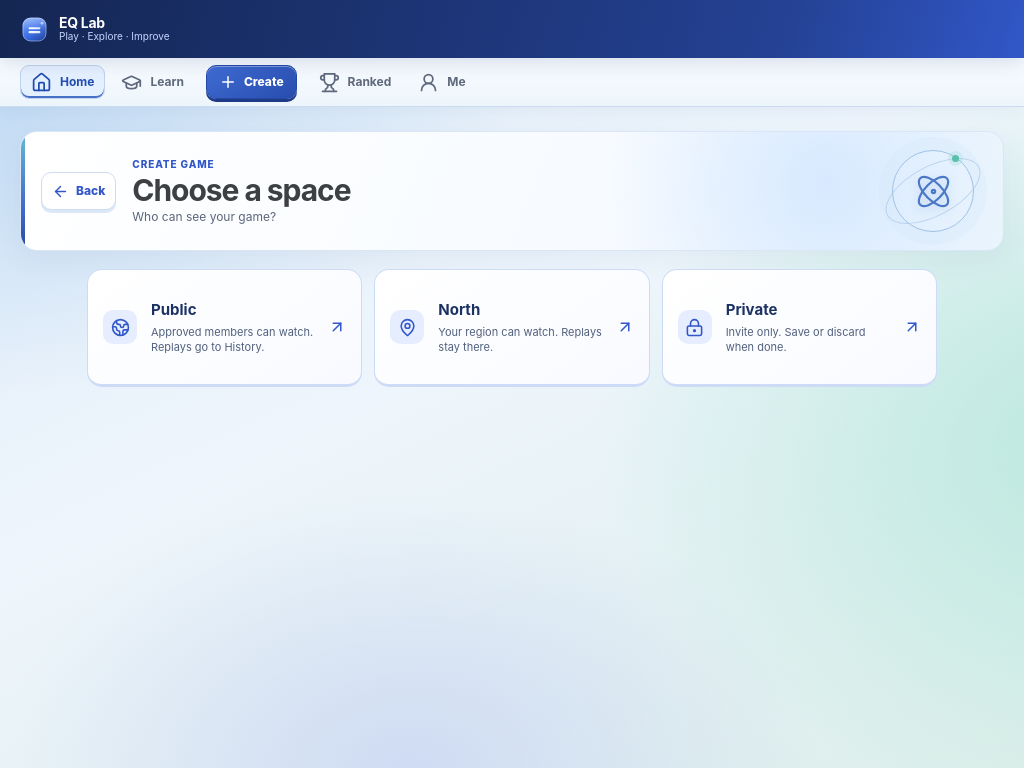
Test: choosing ArchBot › says so in a browser that cannot run it
Click the button "Public Approved members can watch. Replays go to History.": point(225, 328) [87, 269, 362, 387]
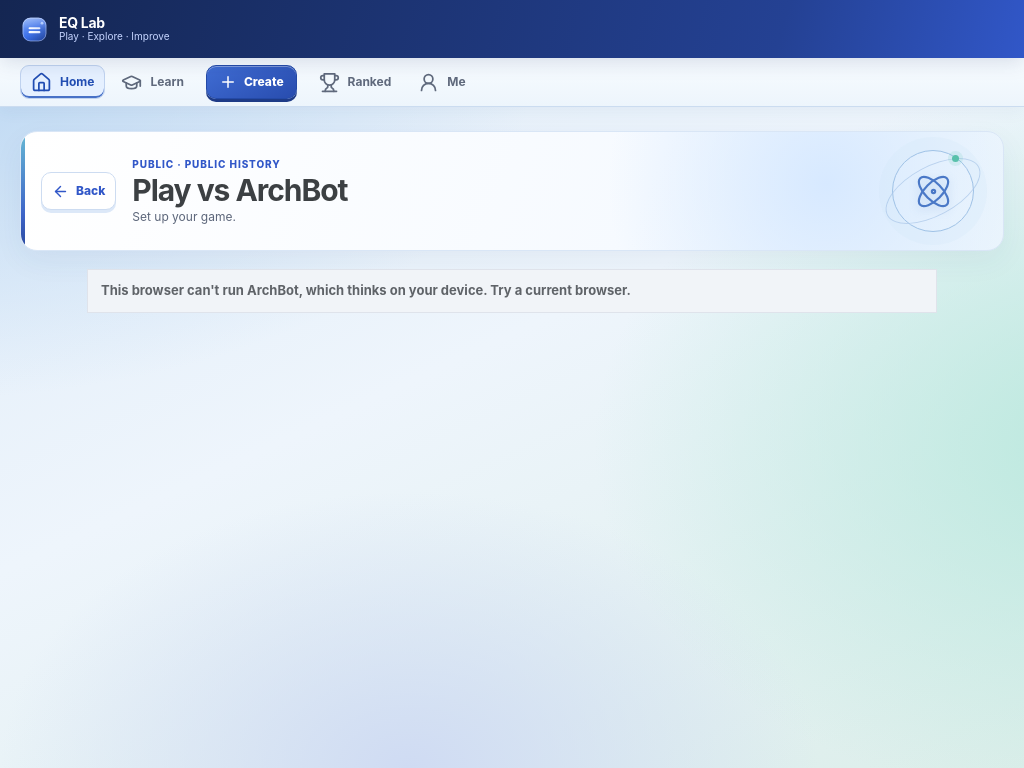
expect the text "This browser can't run ArchBot" is shown: met, box [101, 282, 631, 298]
